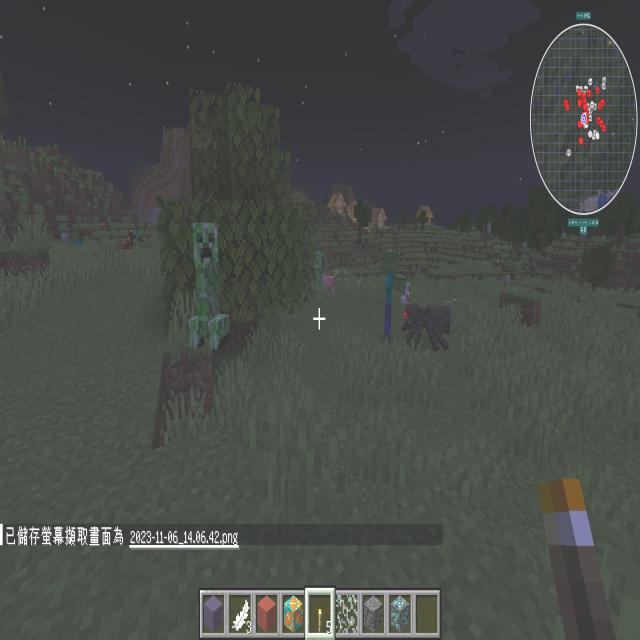Creeper: (183, 216, 235, 357), (310, 249, 328, 303), (511, 286, 518, 294)
Skeleton: (502, 272, 512, 294)
Spider: (396, 300, 456, 358), (98, 219, 112, 233), (109, 237, 117, 245)
Zombie: (378, 245, 408, 352), (66, 224, 86, 266), (134, 225, 142, 246)
chicken: (399, 291, 412, 308), (402, 280, 412, 292)
cow: (372, 255, 382, 267), (362, 260, 368, 272)
pig: (319, 270, 337, 298)
